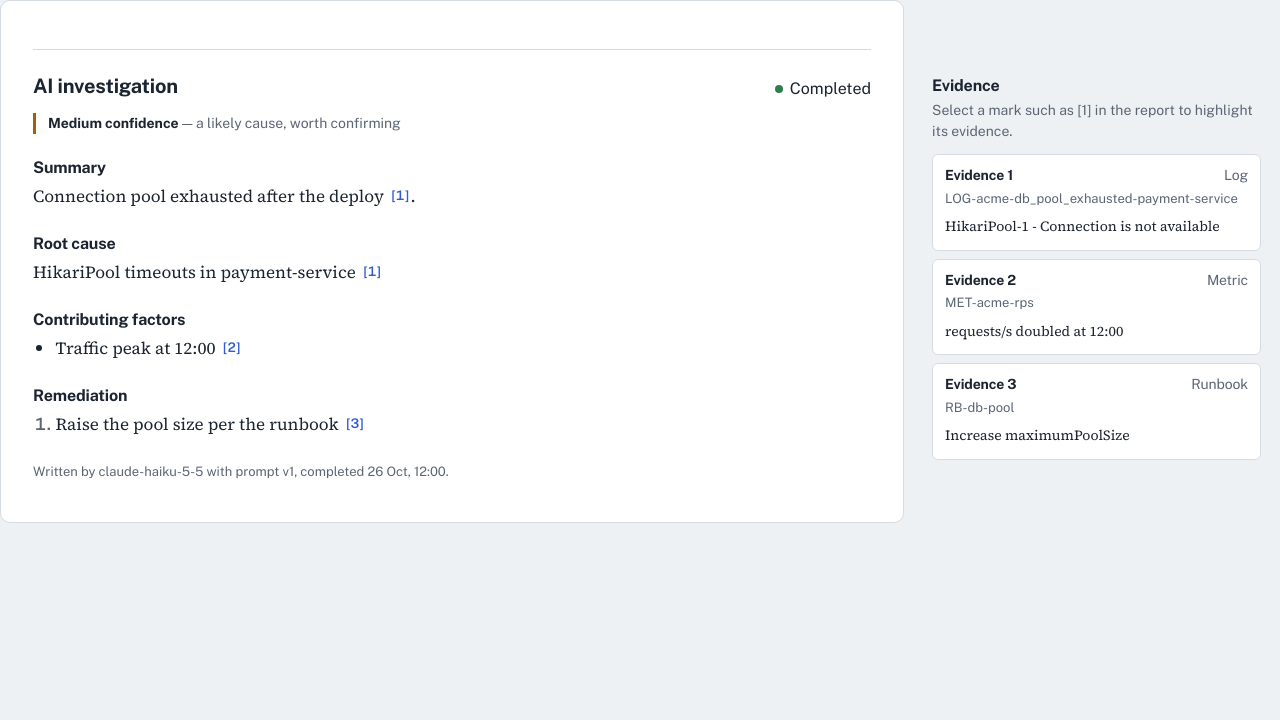
bottom sheet on a narrow screen › the Close button closes the sheet too
Click the button named "Evidence 1".
click(400, 196)  # box [390,189,410,202]
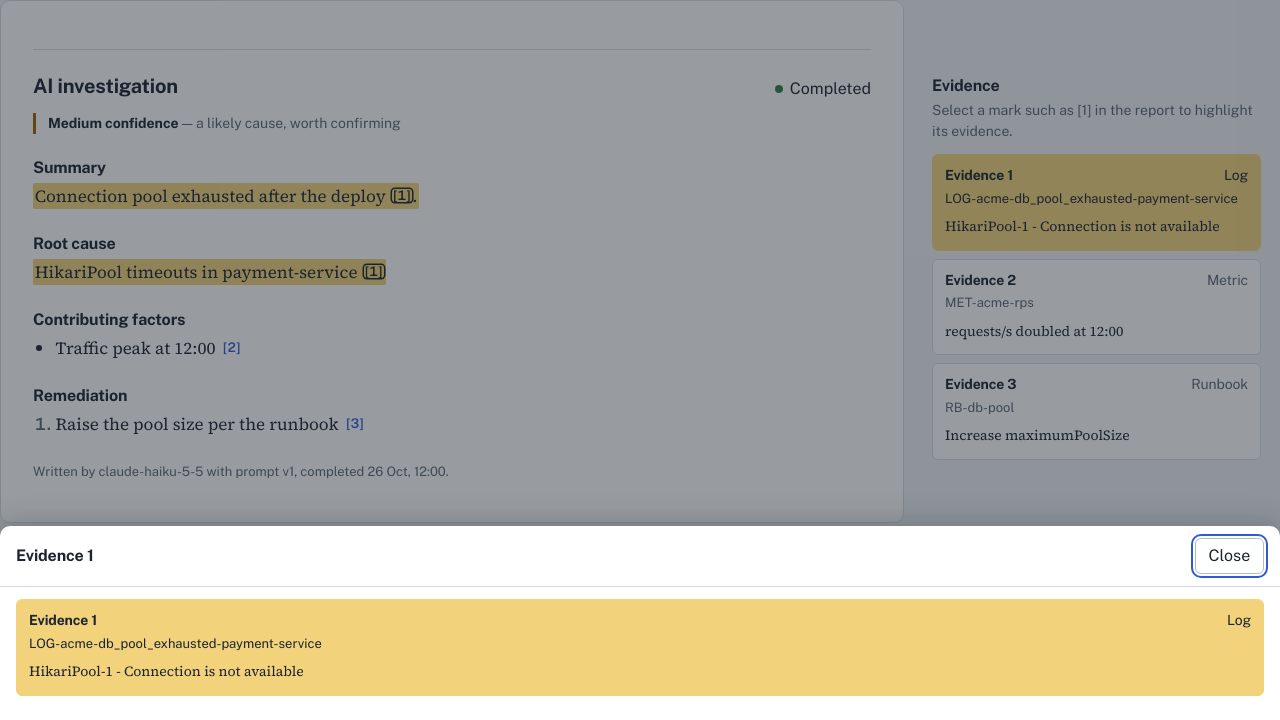
Click the button "Close".
click(1229, 556)  # box [1195,538,1264,574]
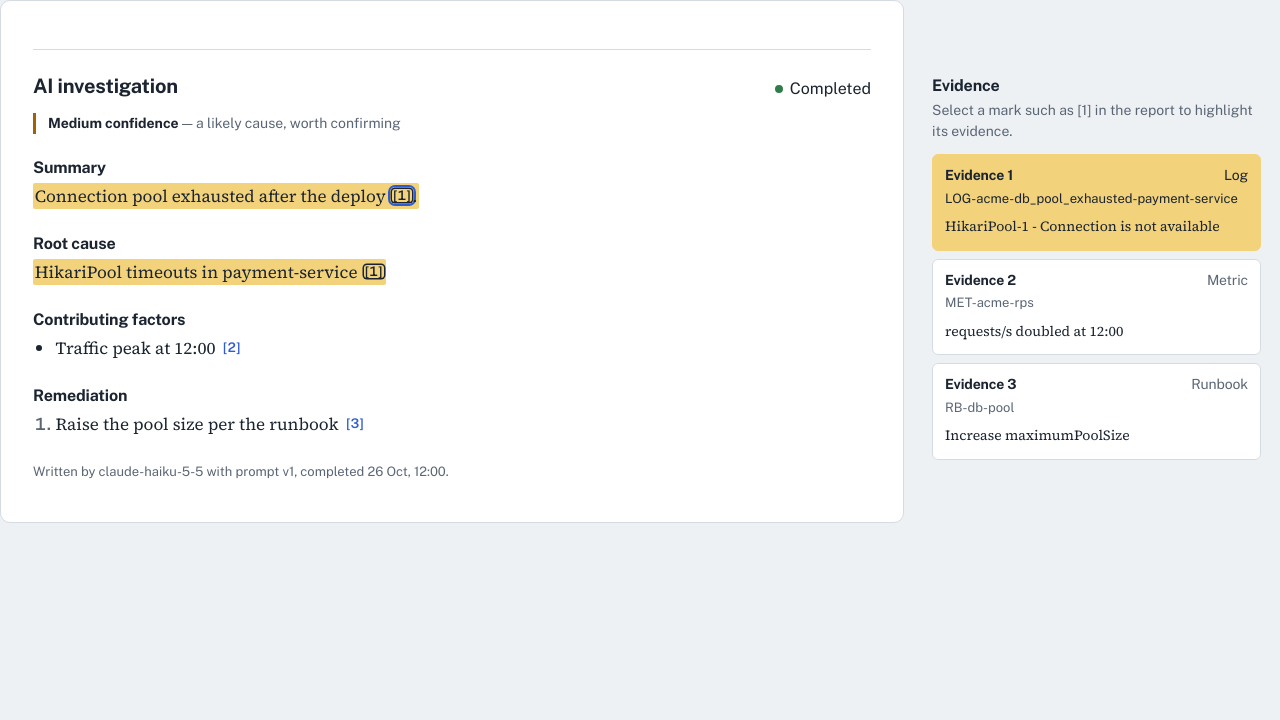
Expected: the dialog is gone
